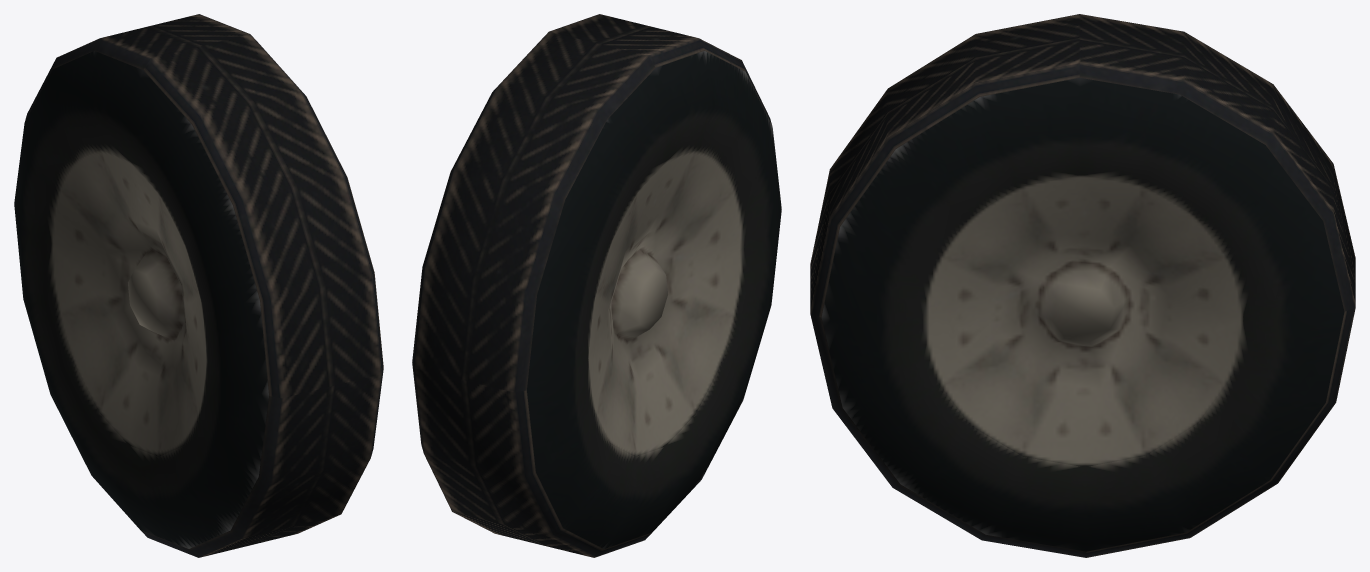
The model's file is quadri_wheel.obj.
3 renders of one model, left to right at view 1: azimuth 30°, elevation 25°; view 2: azimuth 150°, elevation 25°; view 3: azimuth 270°, elevation 25°, orthographic. The views are drawn at different scales.
Parts seen in each view (by area): view 1: Quadri.002; view 2: Quadri.002; view 3: Quadri.002.
Boxes of the visible parts, box(x1,y1,x2,y2) form: Quadri.002: box(14, 14, 383, 557); Quadri.002: box(412, 14, 781, 557); Quadri.002: box(810, 14, 1355, 557).
Bounding box in the file's own units: 0.6696 × 2 × 2.
1 material, 1 textured.
